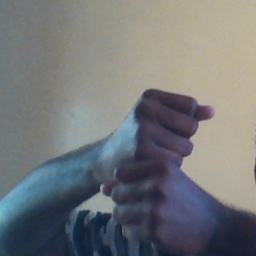G: (101, 85, 219, 251)
